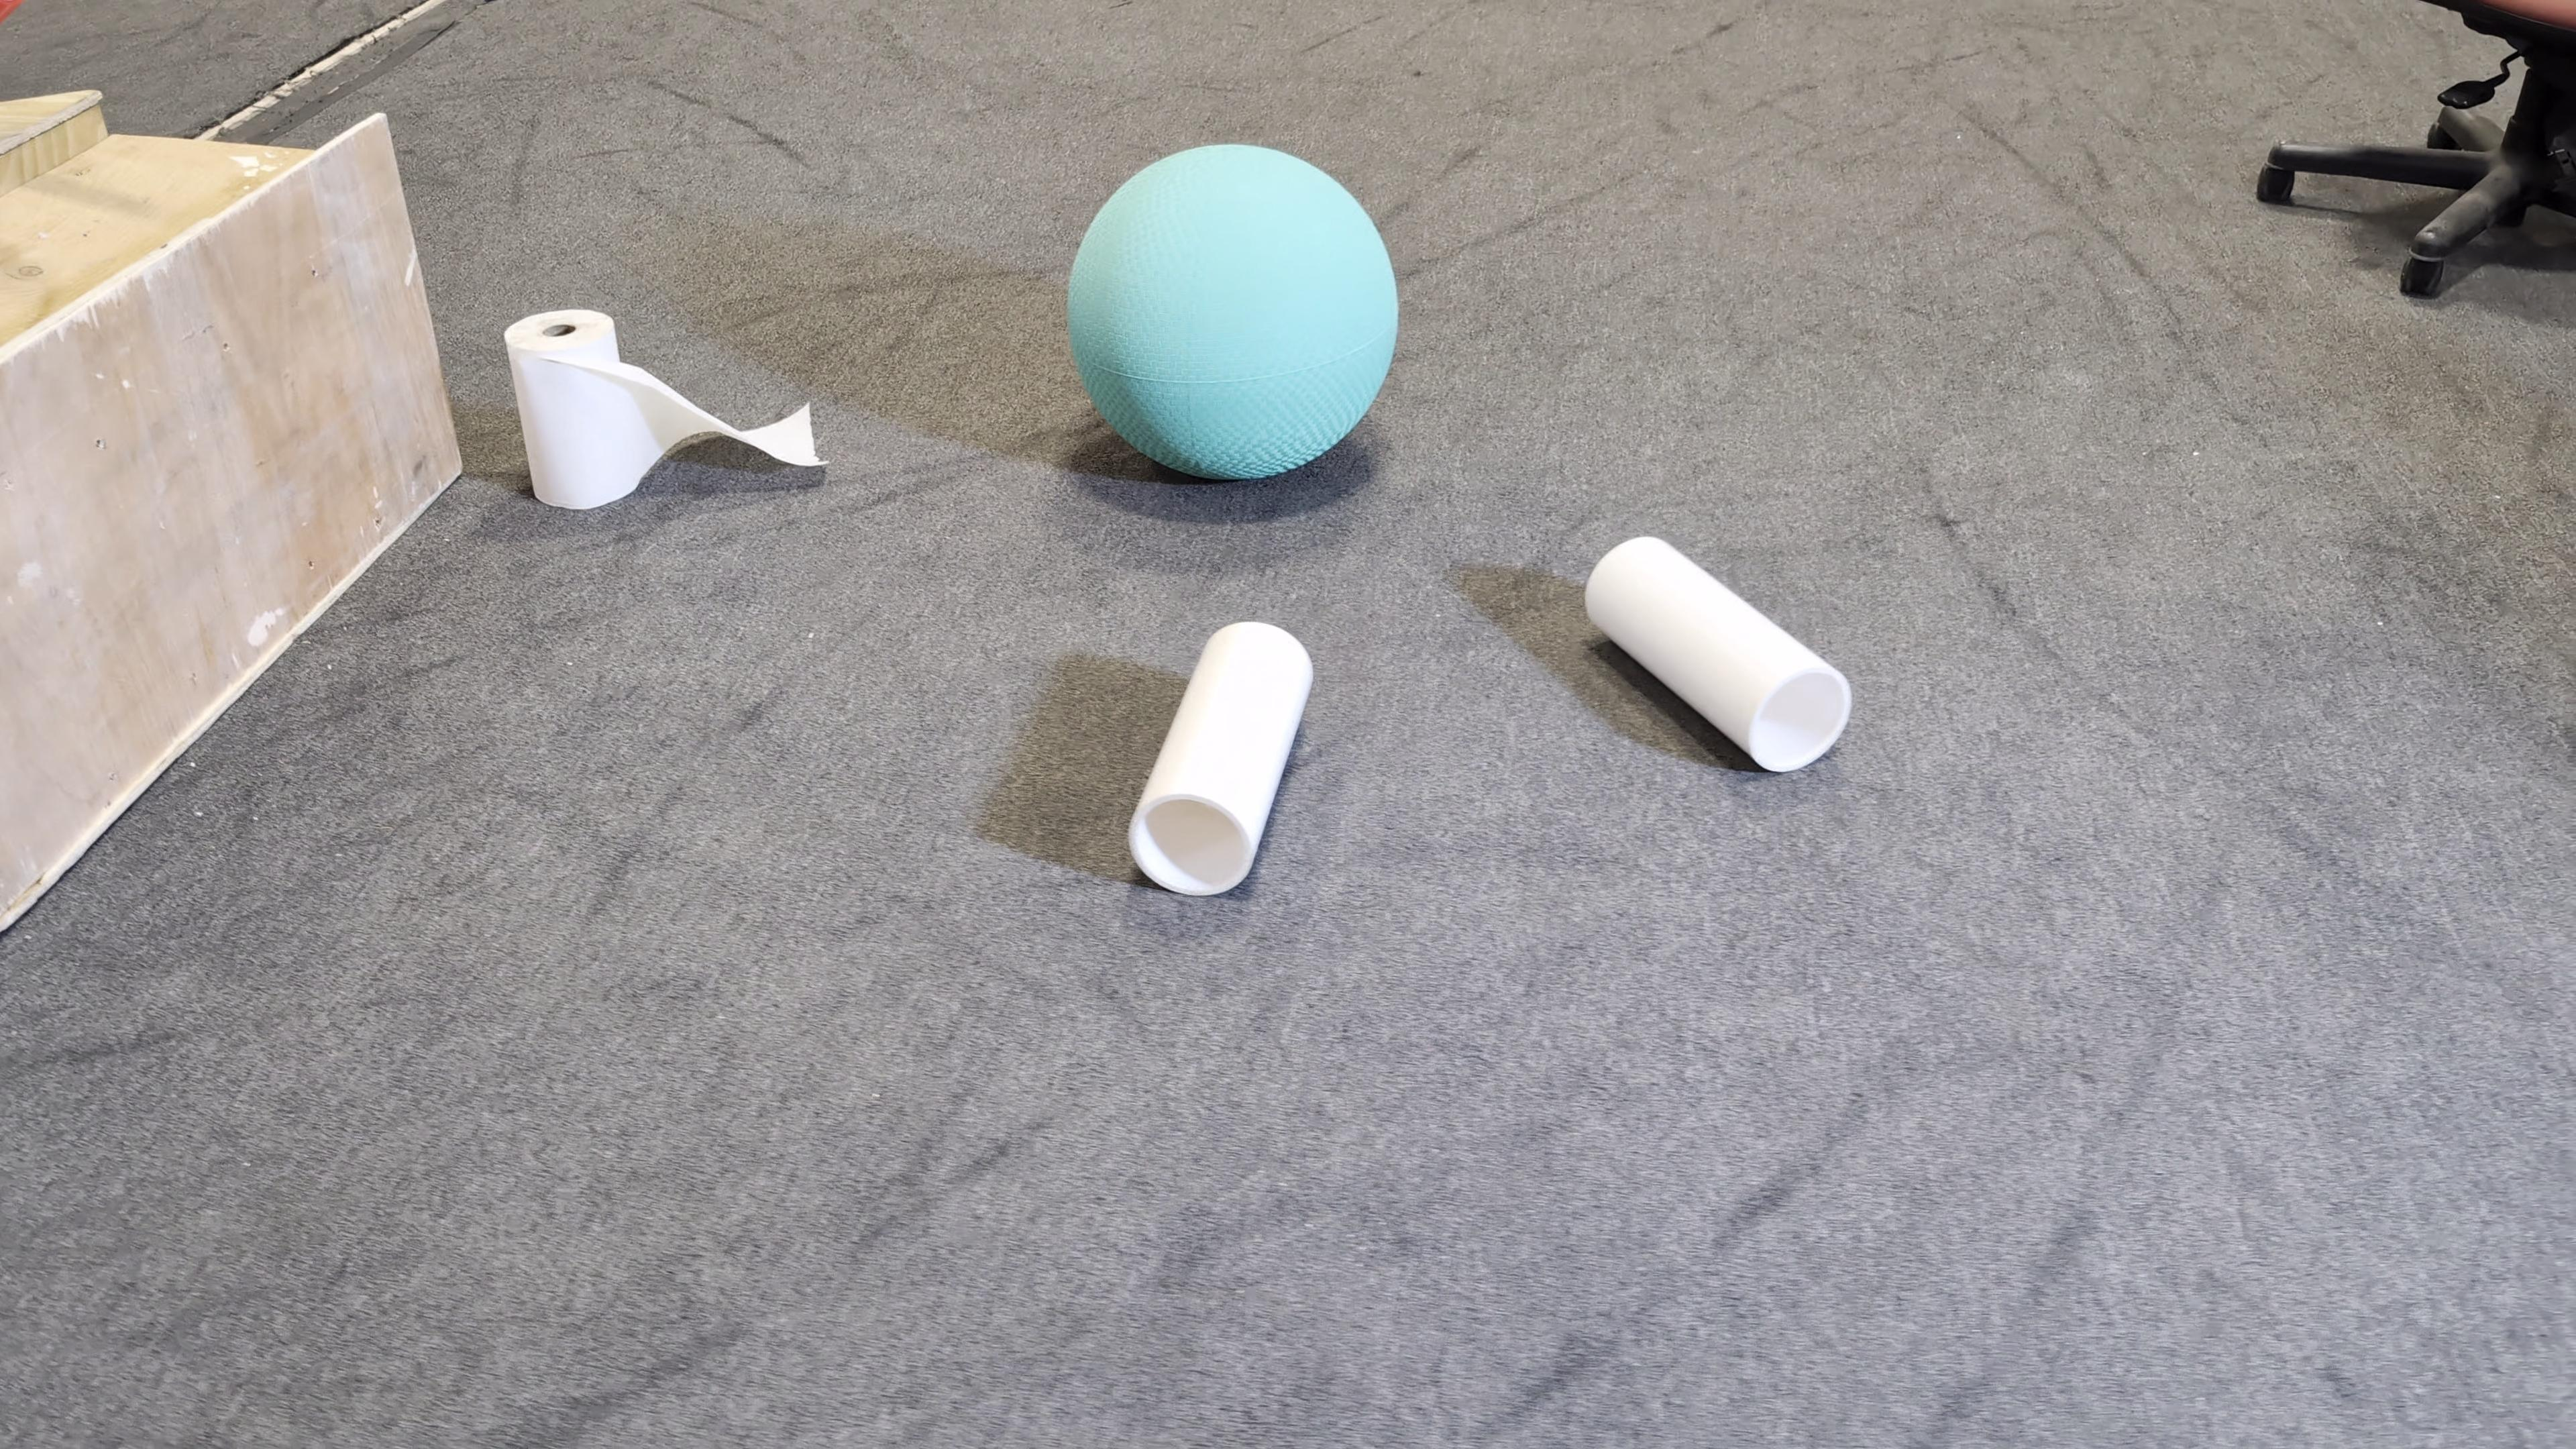algae: (1067, 142, 1398, 478)
coral: (1582, 529, 1854, 773), (1123, 619, 1316, 893)
